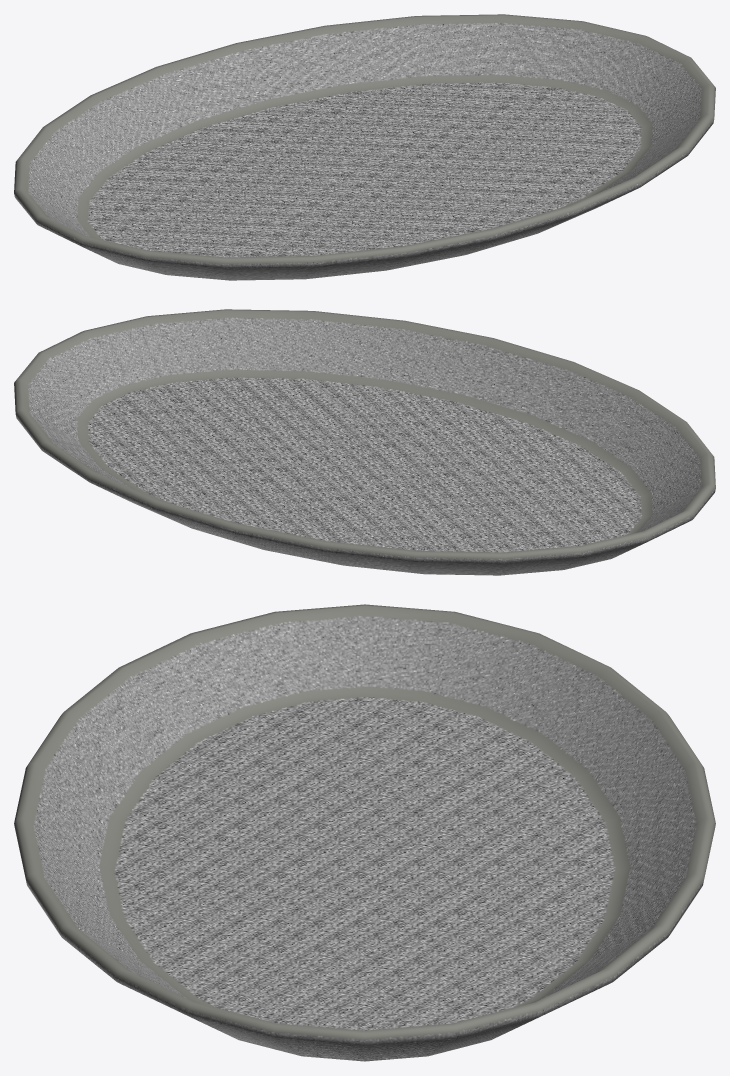
File: Piring Ikan Goreng.fbx
3 renders of one model, top to bottom at view 1: azimuth 30°, elevation 25°; view 2: azimuth 150°, elevation 25°; view 3: azimuth 270°, elevation 25°, orthographic. The views are drawn at different scales.
Parts seen in each view (by area): view 1: Piring Ikan; view 2: Piring Ikan; view 3: Piring Ikan.
Boxes of the visible parts, x1,y1,x2,y2 form: Piring Ikan: (14,14,715,280); Piring Ikan: (14,309,715,575); Piring Ikan: (14,604,715,1061).
Bounding box in the file's own units: 33.29 × 2.37 × 22.81.
1 material, 1 textured.
